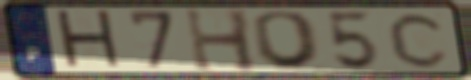5: (324, 9, 381, 71)
7: (126, 8, 178, 71)
C: (386, 11, 452, 70)
H: (182, 6, 262, 74), (52, 8, 126, 72)
O: (251, 9, 325, 71)
